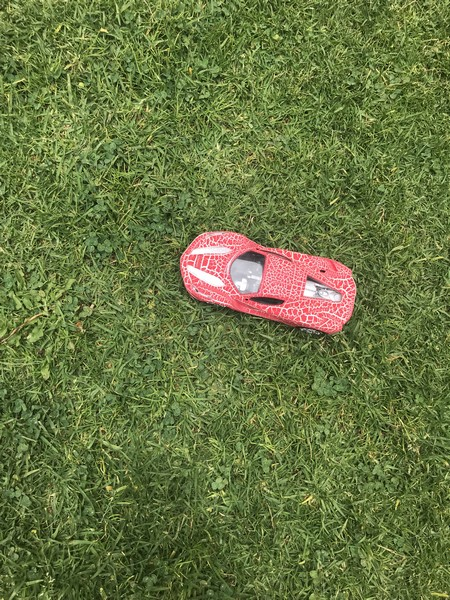RC: (177, 226, 359, 339)
